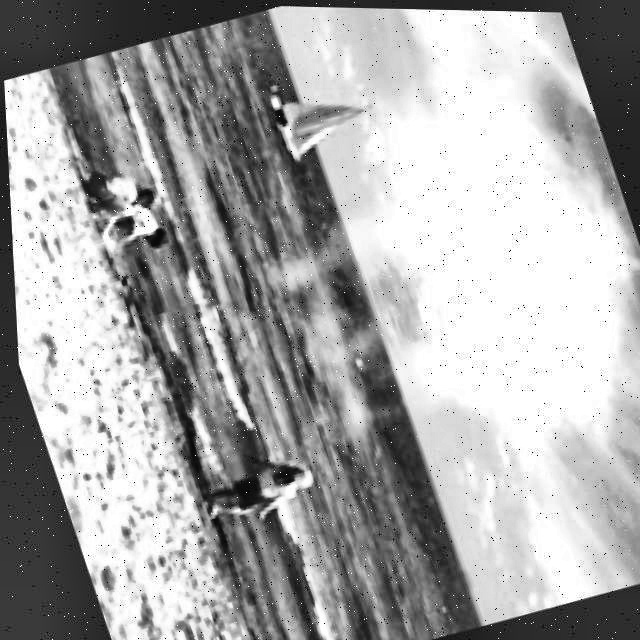Smoke: (194, 46, 640, 533)
